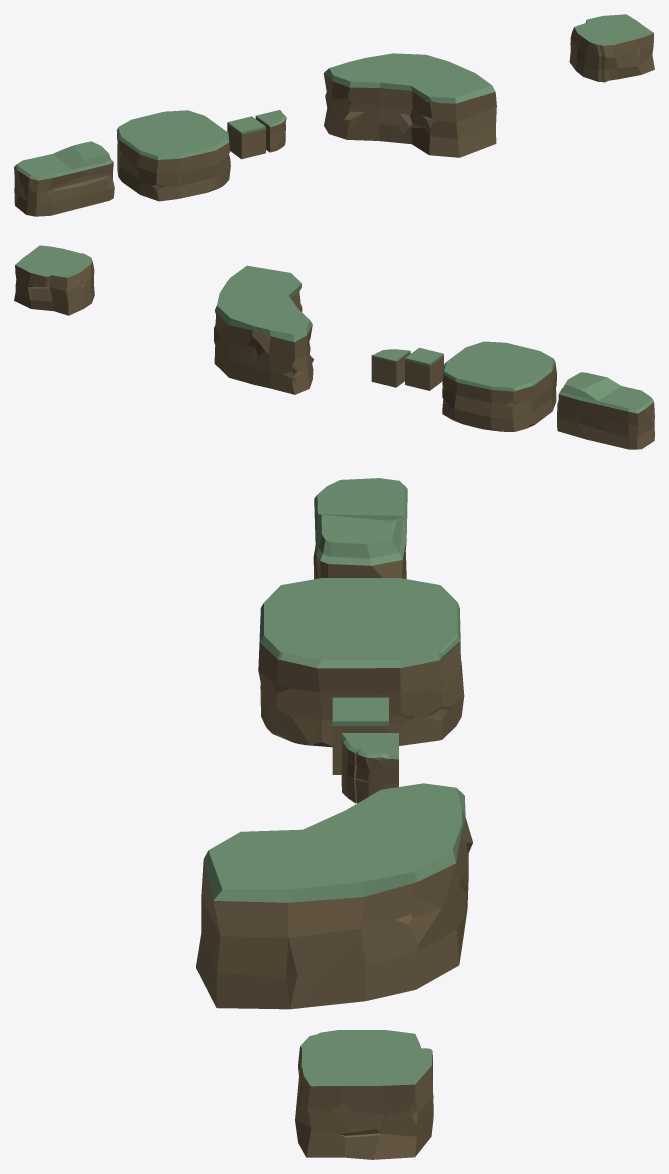
The model's file is map2_environment.fbx.
3 views of the same model, one above another, from view 1: azimuth 30°, elevation 25°; view 2: azimuth 150°, elevation 25°; view 3: azimuth 270°, elevation 25° (orthographic). The views are drawn at different scales.
Parts seen in each view (by area): view 1: Plane, Cliff_4, Cliff_3, Cliff_5, Cliff_2, Cliff_1; view 2: Plane, Cliff_4, Cliff_3, Cliff_5, Cliff_2, Cliff_1; view 3: Plane, Cliff_4, Cliff_5, Cliff_3, Cliff_1, Cliff_2.
Boxes of the visible parts, x1,y1,x2,y2 form: Plane: [323, 53, 496, 157]; Cliff_4: [116, 110, 230, 201]; Cliff_3: [14, 141, 114, 216]; Cliff_5: [569, 14, 654, 82]; Cliff_2: [227, 116, 265, 159]; Cliff_1: [255, 110, 286, 152]; Plane: [214, 265, 314, 394]; Cliff_4: [442, 341, 556, 431]; Cliff_3: [557, 372, 654, 449]; Cliff_5: [14, 245, 94, 315]; Cliff_2: [405, 347, 443, 390]; Cliff_1: [371, 349, 410, 387]; Plane: [196, 783, 472, 1009]; Cliff_4: [258, 578, 464, 747]; Cliff_5: [295, 1030, 433, 1159]; Cliff_3: [313, 478, 407, 579]; Cliff_1: [341, 733, 398, 803]; Cliff_2: [332, 697, 388, 774].
Bounding box in the file's own units: 5086 × 457 × 983.
